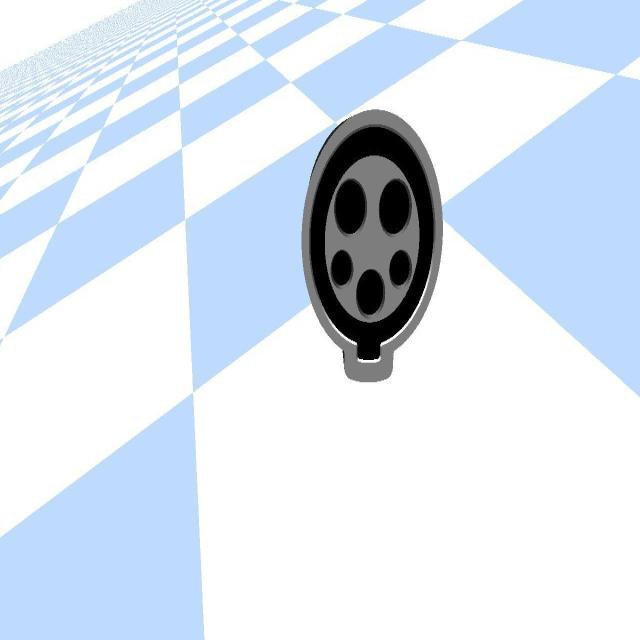Type 1: (282, 66, 489, 406)
